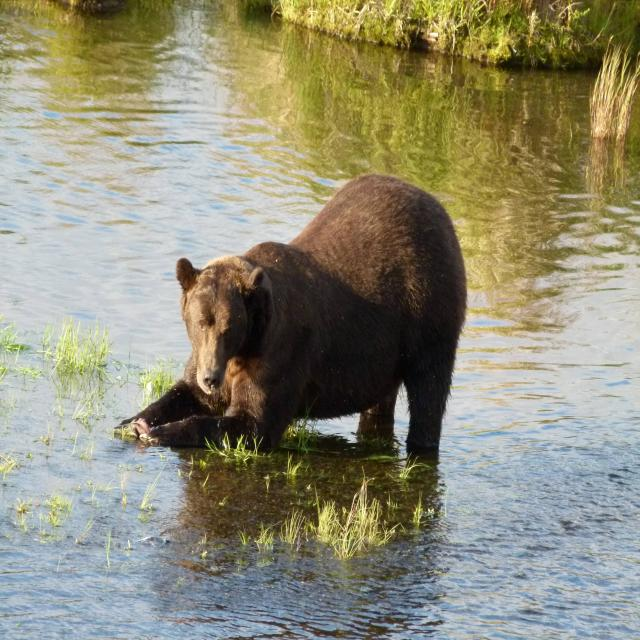bear face: (146, 180, 469, 458)
